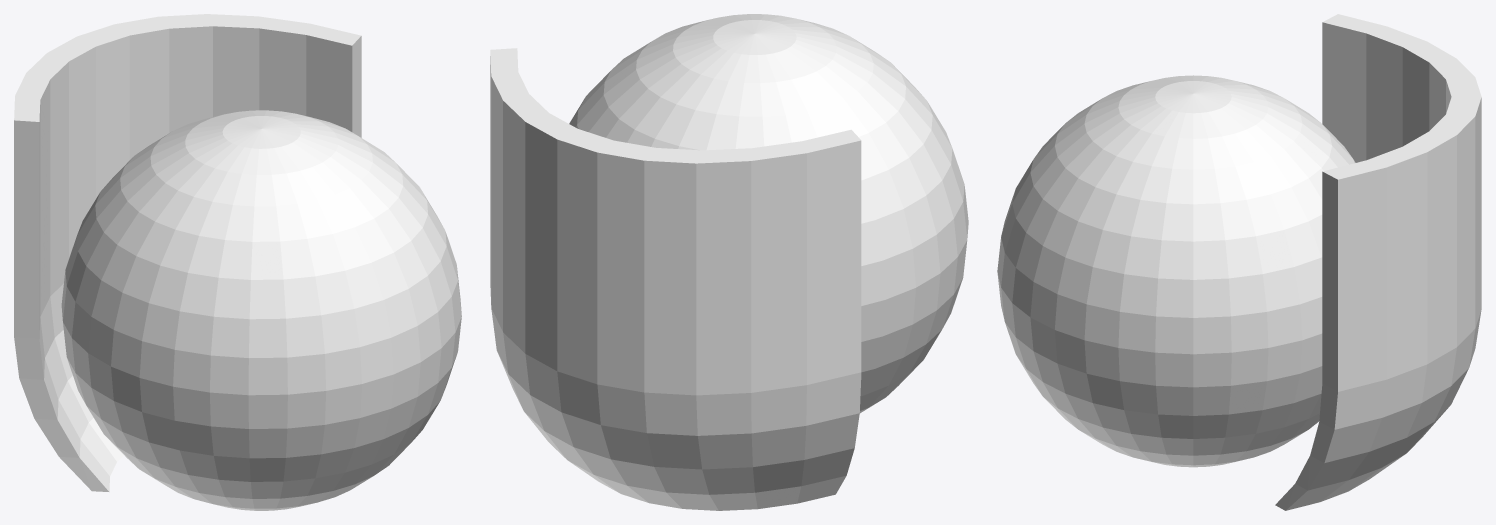
The model's file is shieldEnemy.obj.
The picture shows the model from 3 angles, left to right: view 1: azimuth 30°, elevation 25°; view 2: azimuth 150°, elevation 25°; view 3: azimuth 270°, elevation 25°; orthographic projection. The views are drawn at different scales.
Parts seen in each view (by area): view 1: shieldEnemy; view 2: shieldEnemy; view 3: shieldEnemy.
Boxes of the visible parts, x1,y1,x2,y2 form: shieldEnemy: (14,14,461,510); shieldEnemy: (490,14,968,510); shieldEnemy: (997,14,1481,510).
Size of the model in its own units: 1 by 1.01 by 1.23.
1 material, 1 textured.
